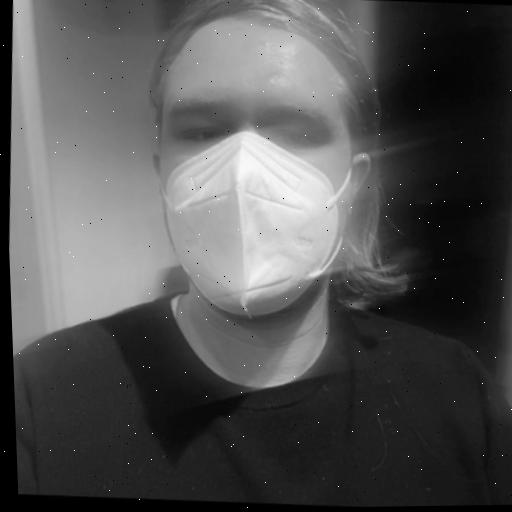mask: (122, 0, 417, 326)
